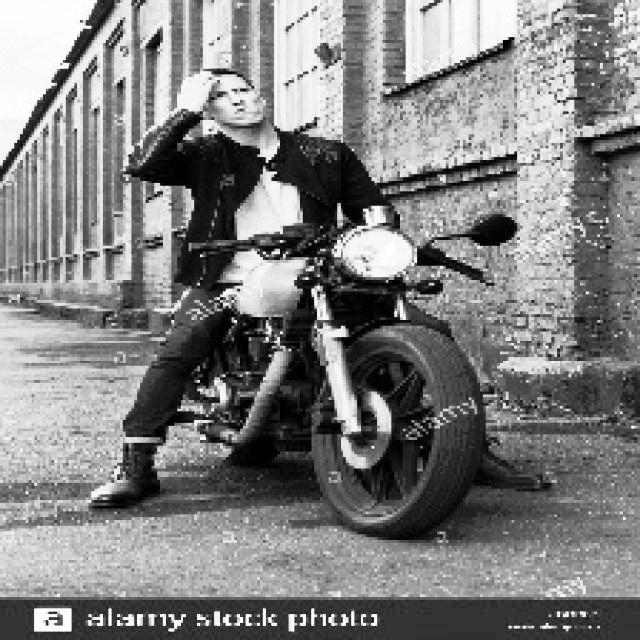Bike: (193, 237, 521, 541)
